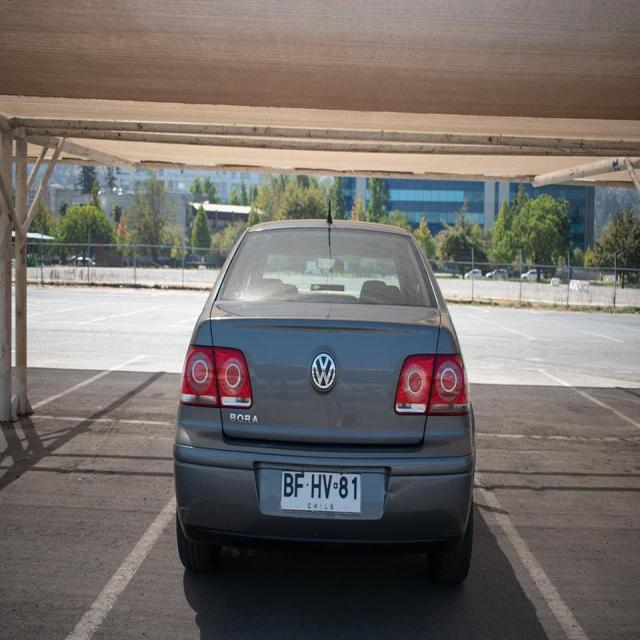patente: (279, 469, 362, 514)
